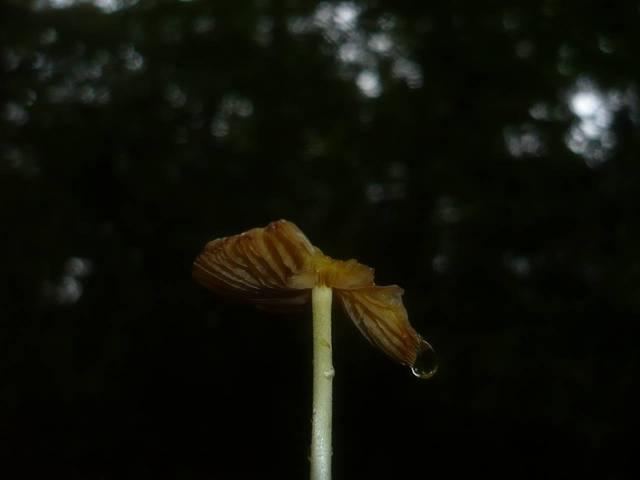Edible Mushroom: (190, 217, 439, 479)
